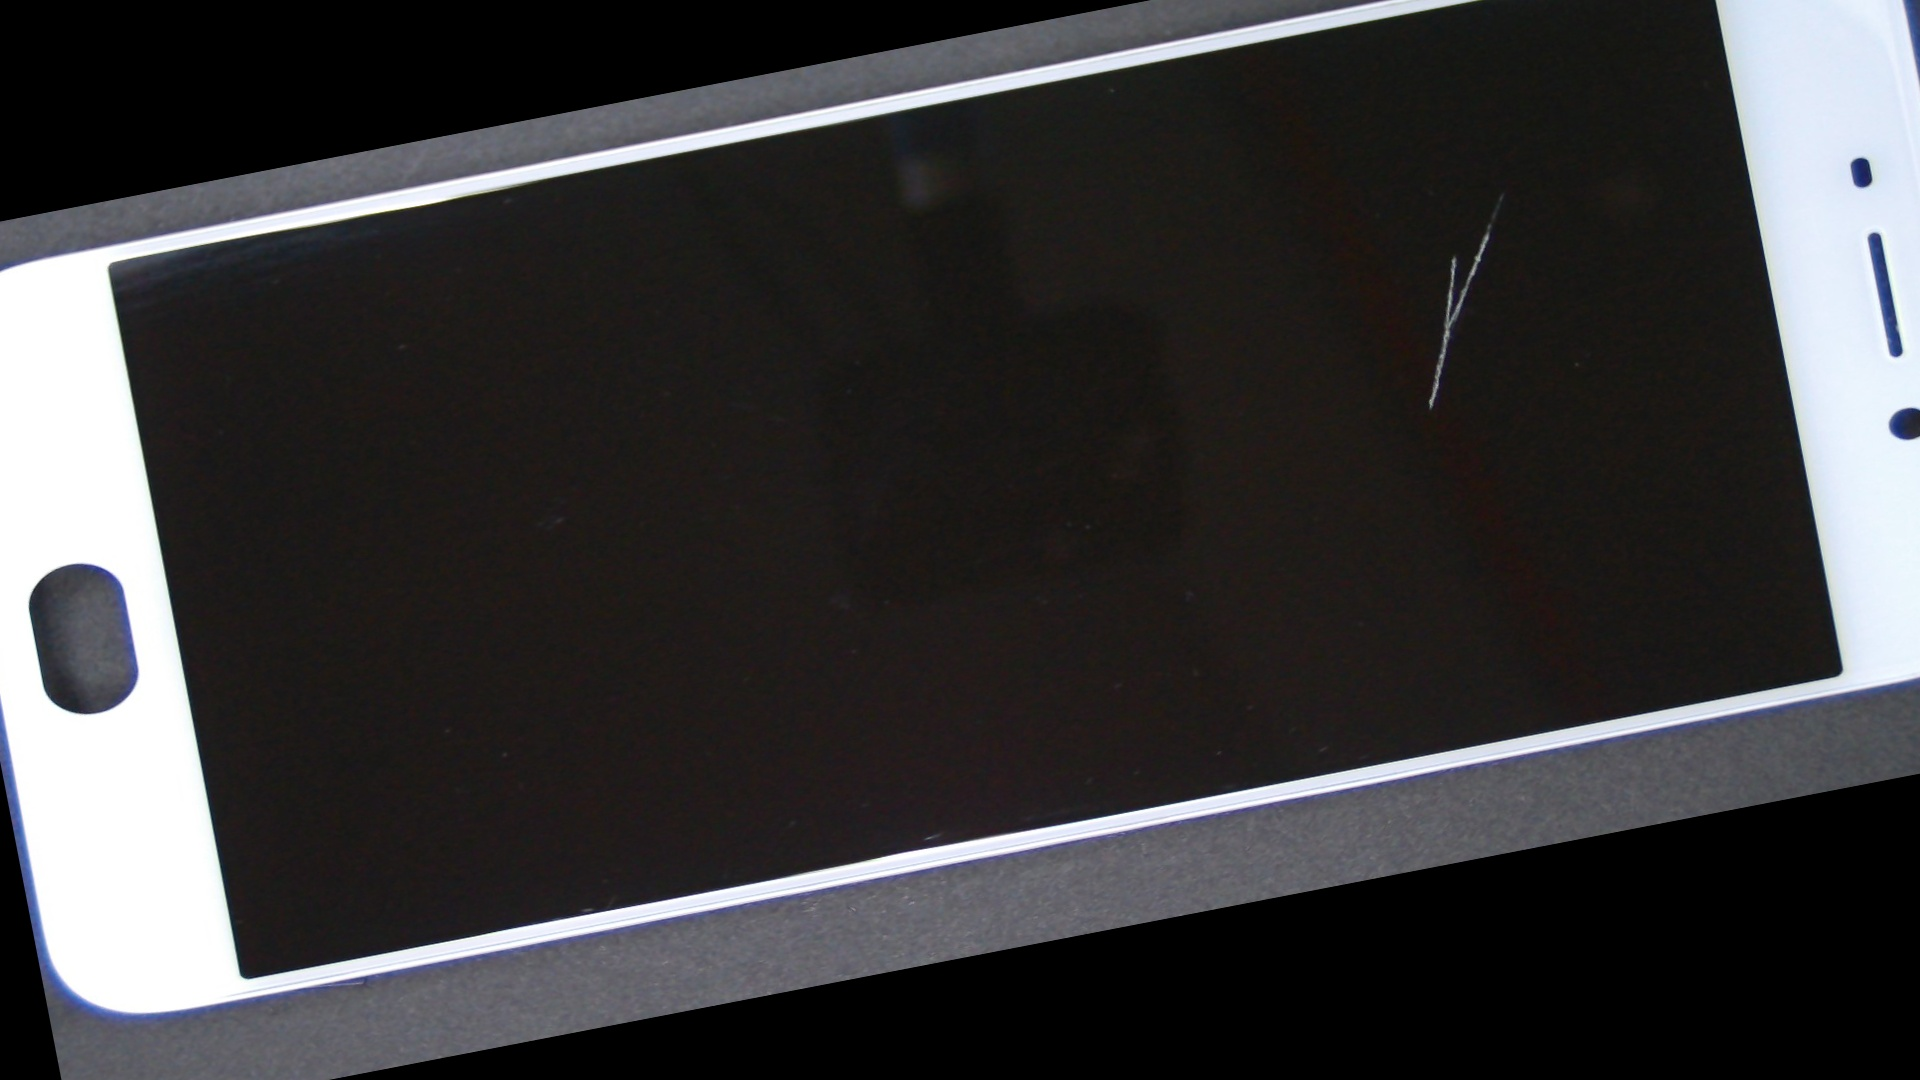oil: (702, 0, 1920, 467)
